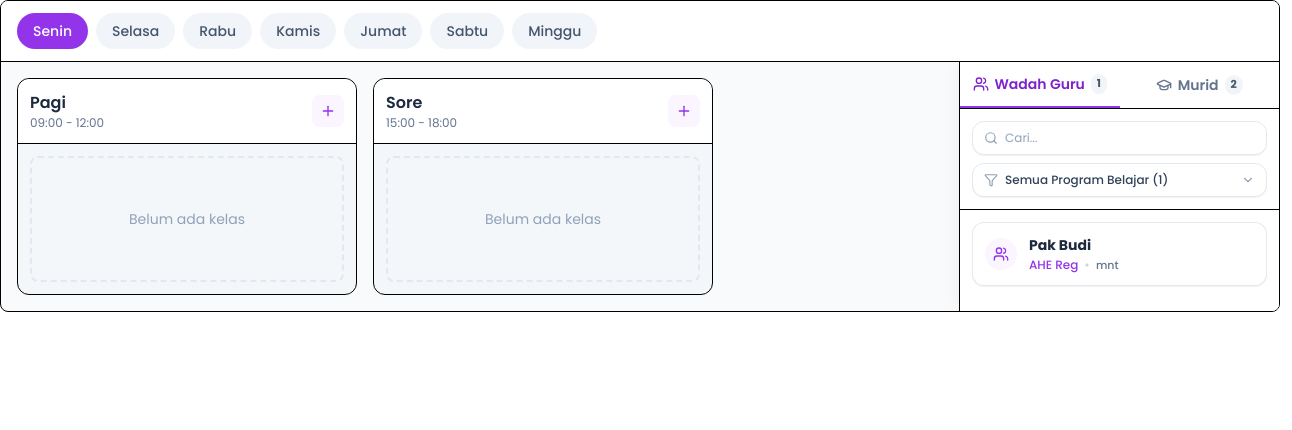
Test: KanbanBoard Component › filters sidebar items based on search
The width and height of the screenshot is (1292, 430).
Note: Test teacher filter
In the field with placeholder "Cari...": {"x": 1120, "y": 138} [972, 121, 1267, 155], type "Budi"
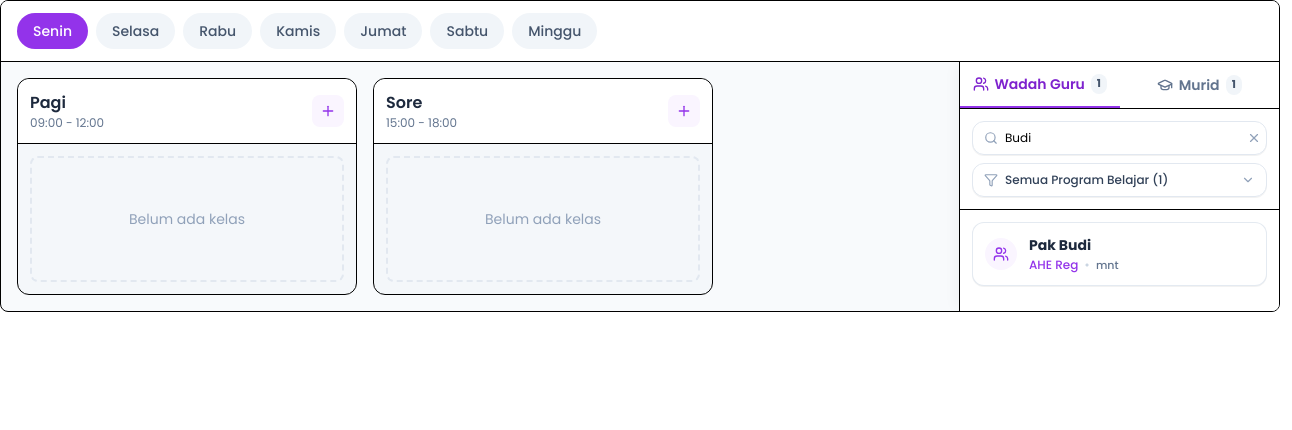
Expected: the text "Pak Budi" is shown, [1029, 235, 1091, 255]
Replace the text in the field with placeholder "Cari nama guru atau varian" with "Siti": {"x": 1120, "y": 138} [972, 121, 1267, 155]
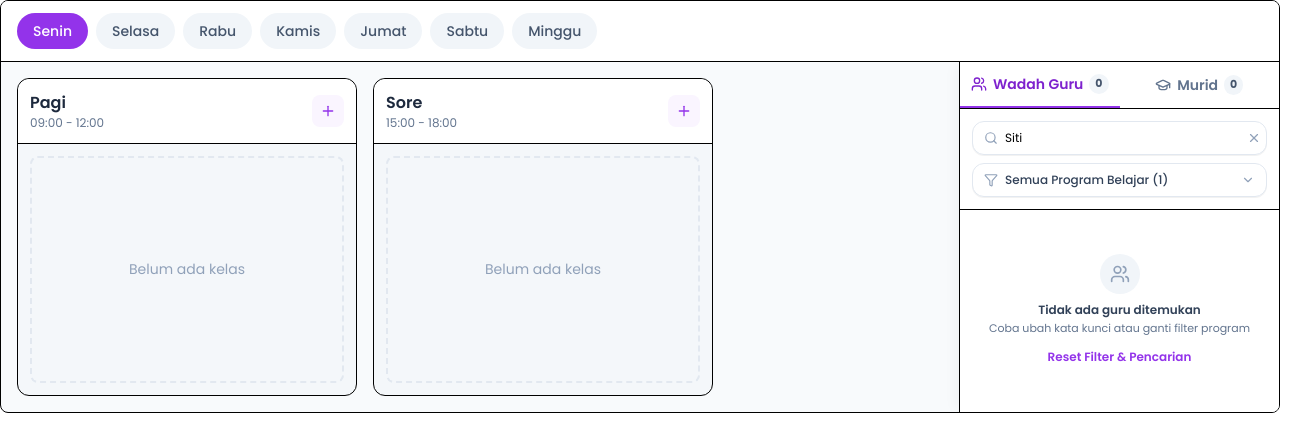
Now the text "Pak Budi" is gone
Note: Switch tab and test student filter
Click the text "Murid": {"x": 1198, "y": 85} [1177, 75, 1218, 95]
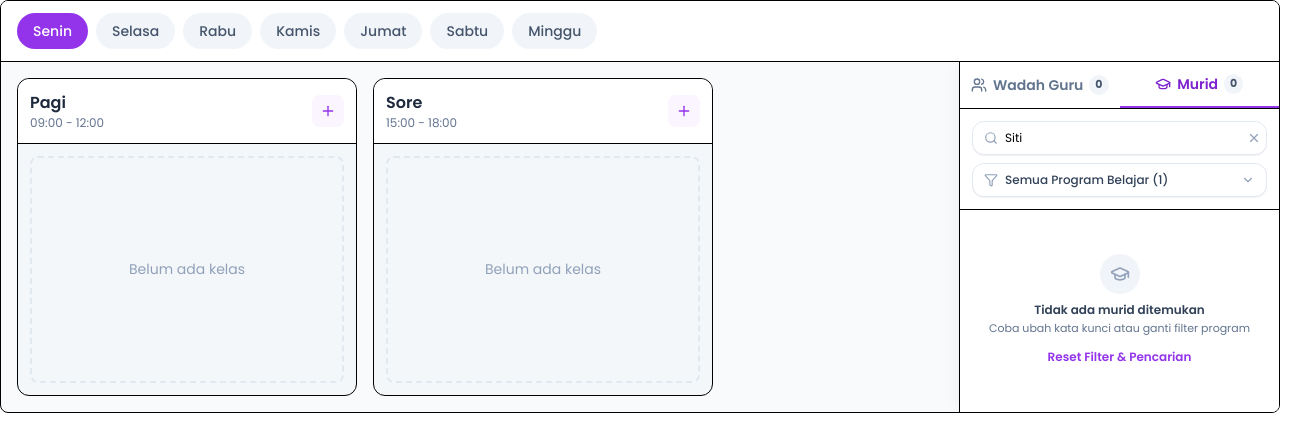
Replace the text in the field with placeholder "Cari nama murid" with "Andi": {"x": 1120, "y": 138} [972, 121, 1267, 155]
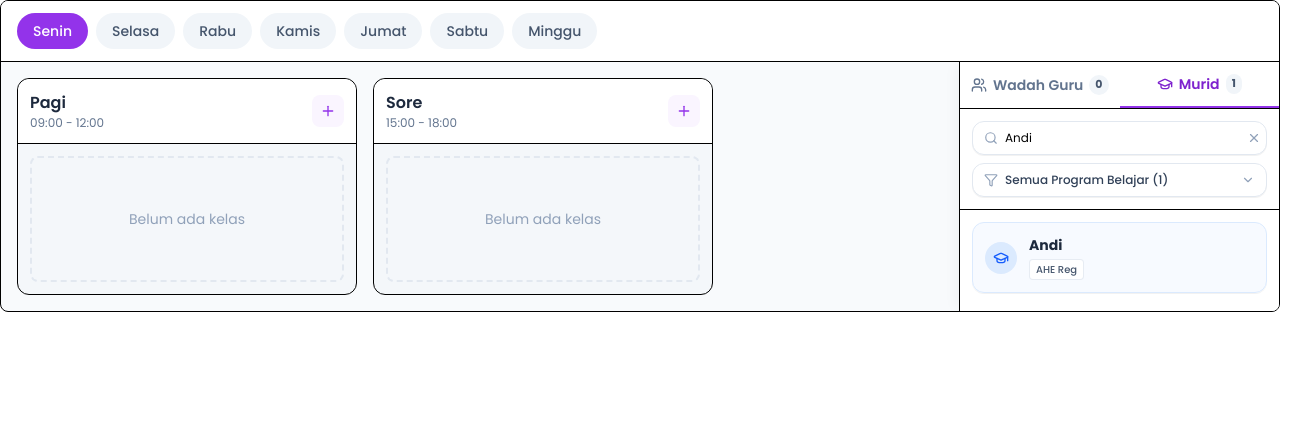
Expected: the text "Budi" is not shown
Now the text "Andi" is shown, box [1029, 235, 1062, 255]
